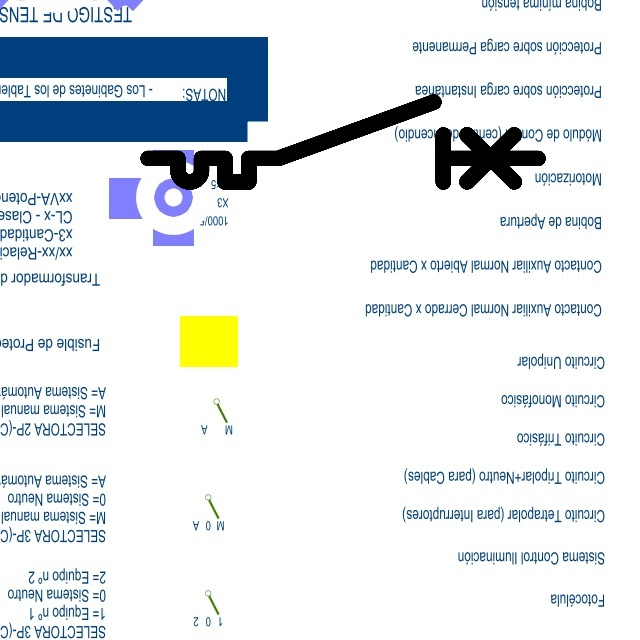interruptor_termomagnetico: (138, 92, 548, 192)
